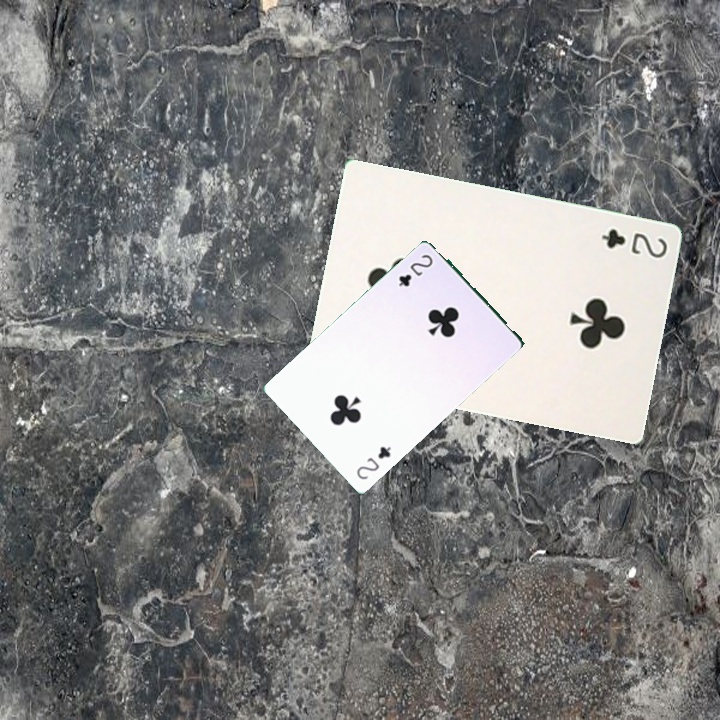2c: (598, 224, 670, 261), (352, 442, 394, 482), (395, 250, 436, 289)
